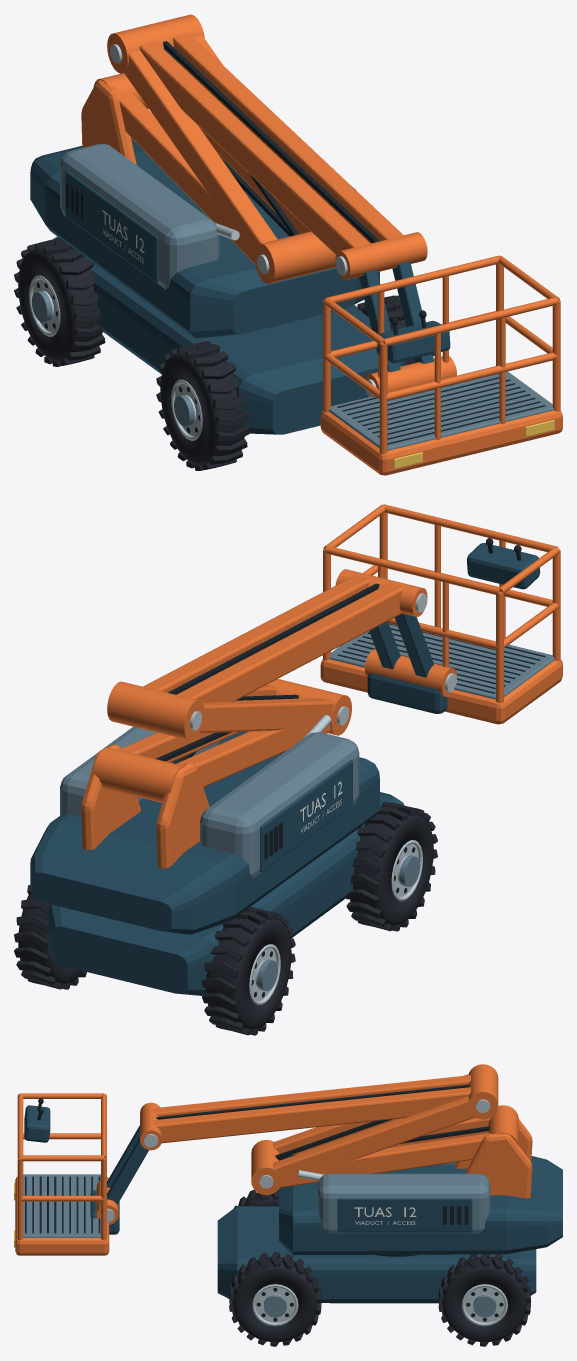
3 views of the same model, one above another, from view 1: azimuth 30°, elevation 25°; view 2: azimuth 150°, elevation 25°; view 3: azimuth 270°, elevation 25° (orthographic). The views are drawn at different scales.
Visible parts, largest first — view 1: Tuas Viaduct Access Lift; view 2: Tuas Viaduct Access Lift; view 3: Tuas Viaduct Access Lift.
Boxes of the visible parts, x1,y1,x2,y2 form: Tuas Viaduct Access Lift: (14, 14, 562, 475); Tuas Viaduct Access Lift: (14, 504, 562, 1035); Tuas Viaduct Access Lift: (14, 1064, 562, 1346).
Bounding box in the file's own units: 2.21 × 2.85 × 6.18.
